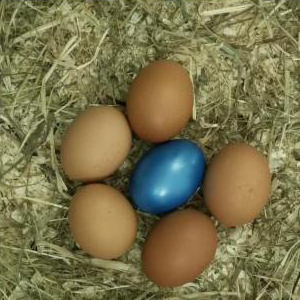egg: (142, 210, 218, 287), (61, 104, 133, 182), (205, 142, 270, 227), (127, 61, 194, 143), (67, 183, 137, 259), (133, 140, 205, 213)
